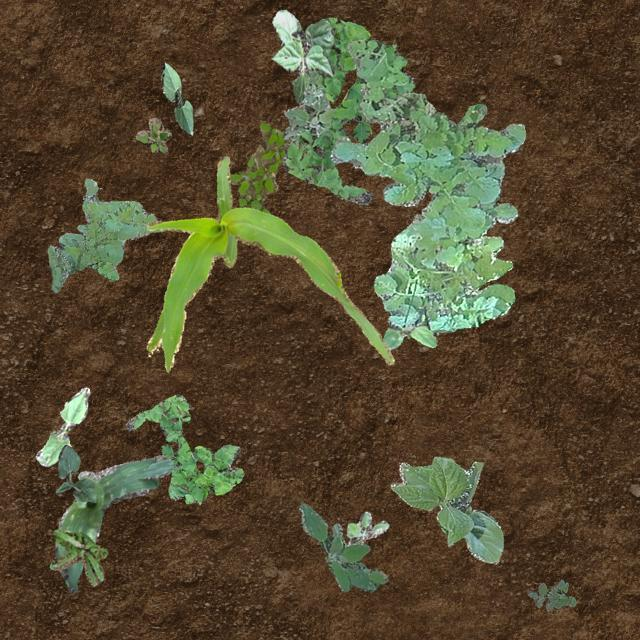crop: (146, 156, 392, 372), (54, 450, 198, 592), (390, 456, 502, 562), (270, 8, 332, 102), (34, 386, 89, 466), (54, 444, 96, 502), (160, 62, 192, 134)
weed: (328, 38, 524, 330), (282, 17, 414, 205), (46, 178, 164, 292), (125, 394, 242, 504), (298, 502, 386, 590), (228, 120, 290, 214), (282, 70, 336, 144), (48, 528, 106, 584), (382, 312, 454, 349), (526, 578, 576, 610), (346, 511, 388, 544), (134, 116, 170, 152), (448, 120, 458, 128)
